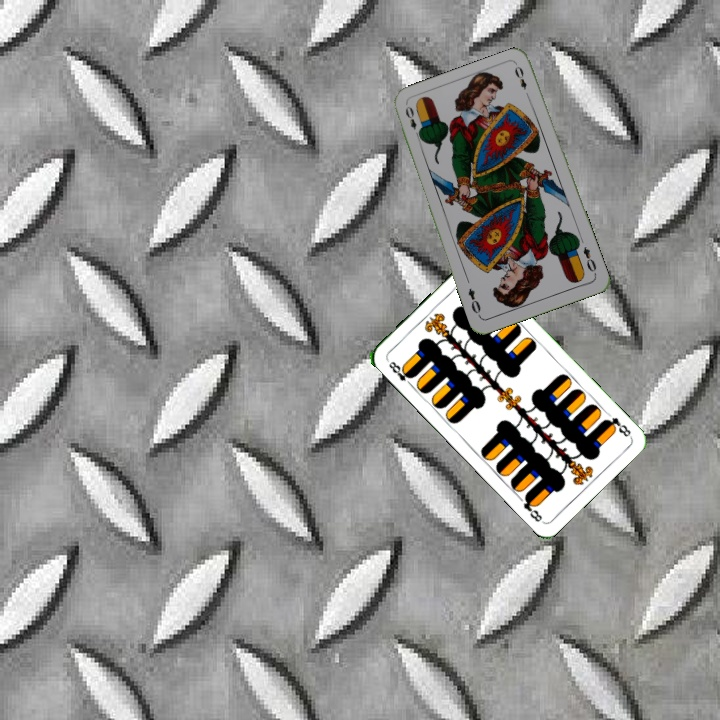E8: (385, 357, 416, 389), (600, 413, 634, 440)
EO: (401, 102, 423, 141), (579, 243, 599, 277)
